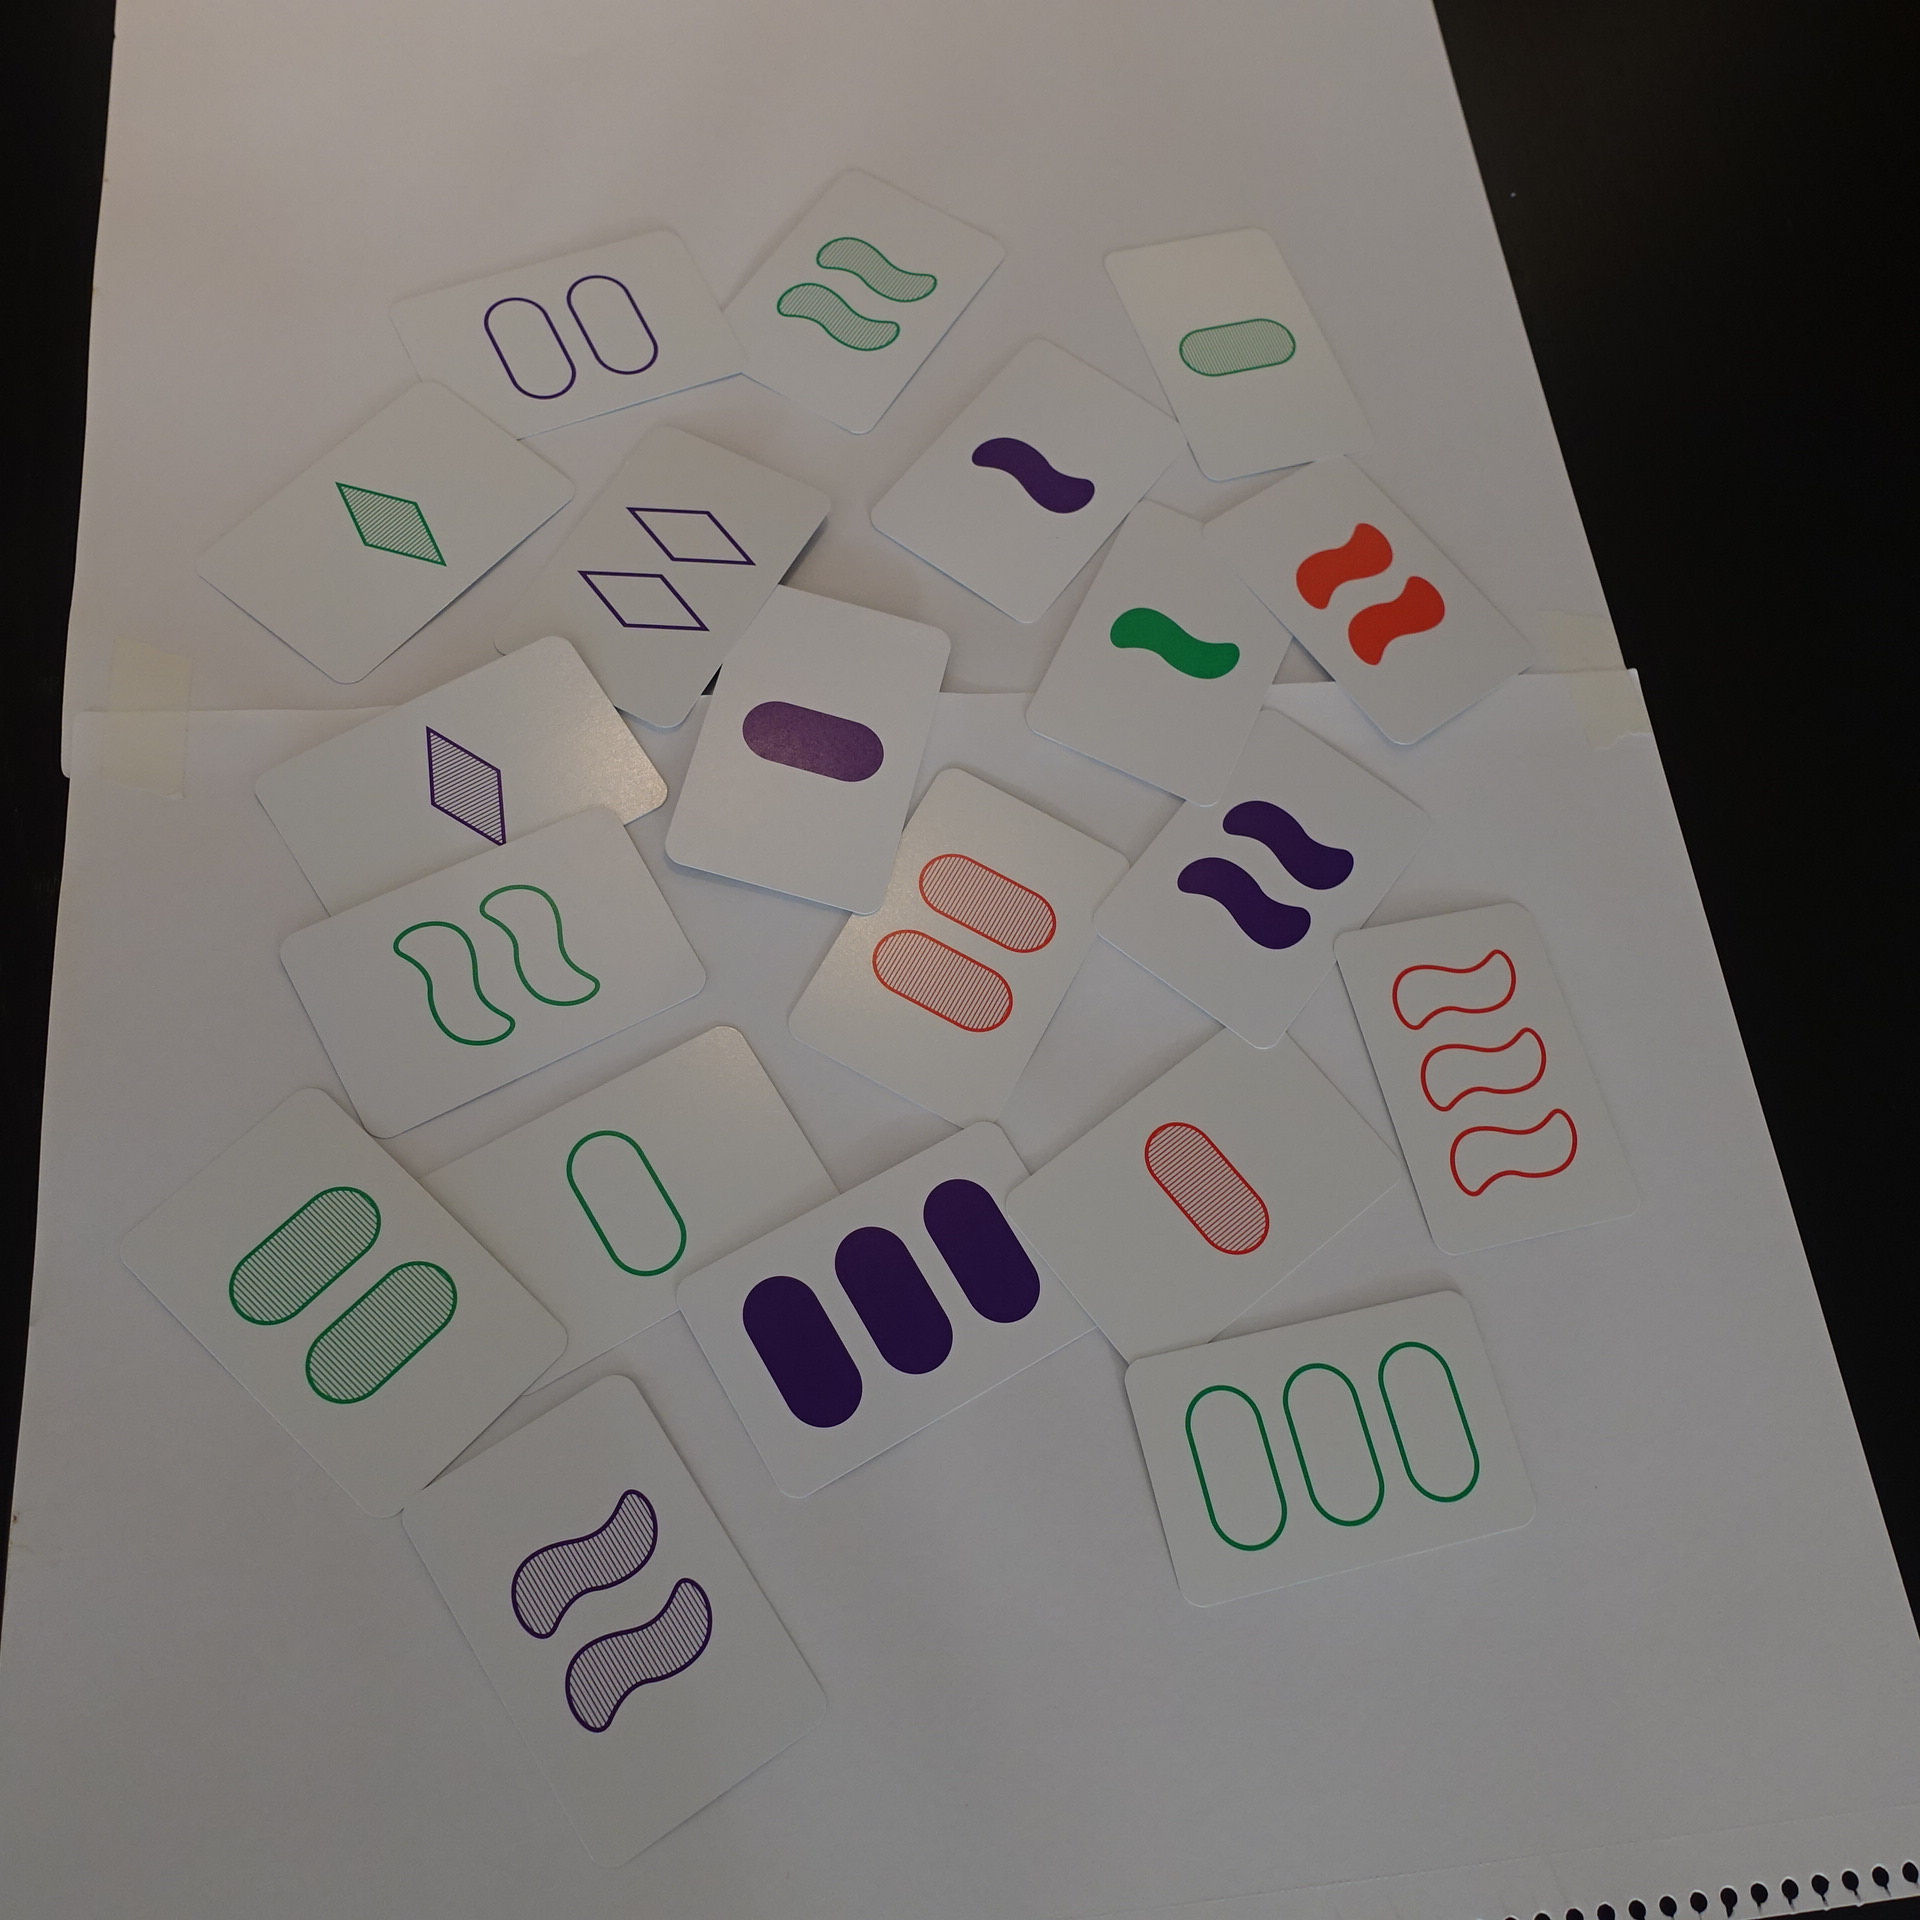c-1-f-o-p: (672, 584, 956, 918)
c-1-f-s-g: (1015, 501, 1320, 802)
c-1-f-s-p: (863, 338, 1196, 629)
c-1-h-d-g: (206, 380, 577, 684)
c-1-h-d-p: (255, 636, 670, 916)
c-1-h-o-g: (1101, 225, 1378, 480)
c-1-h-o-r: (1015, 1025, 1412, 1356)
c-1-u-o-g: (383, 1034, 846, 1408)
c-2-f-s-p: (1094, 709, 1431, 1050)
c-2-f-s-r: (1206, 455, 1531, 745)
c-2-h-o-g: (109, 1092, 563, 1510)
c-2-h-o-r: (782, 772, 1129, 1116)
c-2-h-s-g: (716, 167, 1006, 440)
c-2-h-s-p: (404, 1371, 828, 1858)
c-2-u-d-p: (499, 427, 832, 724)
c-2-u-o-p: (392, 227, 749, 440)
c-2-u-s-g: (280, 814, 712, 1129)
c-3-f-o-p: (673, 1120, 1104, 1493)
c-3-u-o-g: (1127, 1284, 1540, 1602)
c-3-u-s-r: (1342, 898, 1644, 1252)
